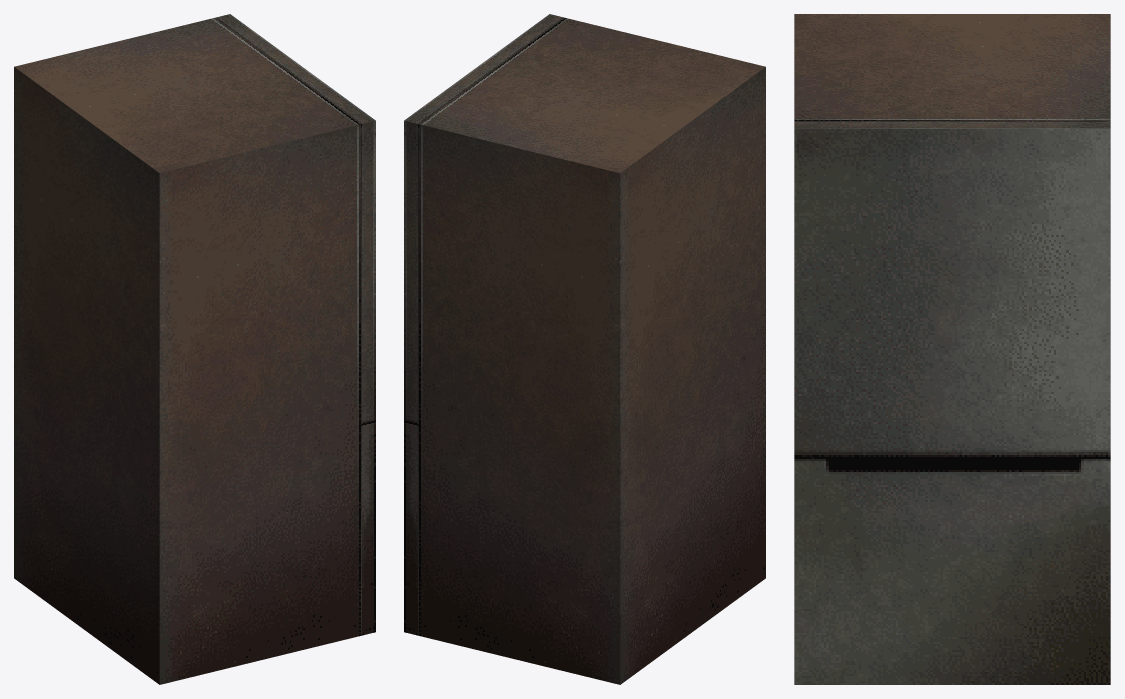
Rendered from fridge.glb.
The picture shows the model from 3 angles, left to right: view 1: azimuth 30°, elevation 25°; view 2: azimuth 150°, elevation 25°; view 3: azimuth 270°, elevation 25°; orthographic projection. The views are drawn at different scales.
Parts seen in each view (by area): view 1: Fridge; view 2: Fridge; view 3: Fridge.
Part boxes in pixels (x1=…): Fridge: x1=14, y1=14, x2=375, y2=684; Fridge: x1=404, y1=14, x2=765, y2=684; Fridge: x1=794, y1=14, x2=1110, y2=684.
Size of the model in its own units: 0.84 by 1.9 by 0.98.
1 material, 1 textured.
